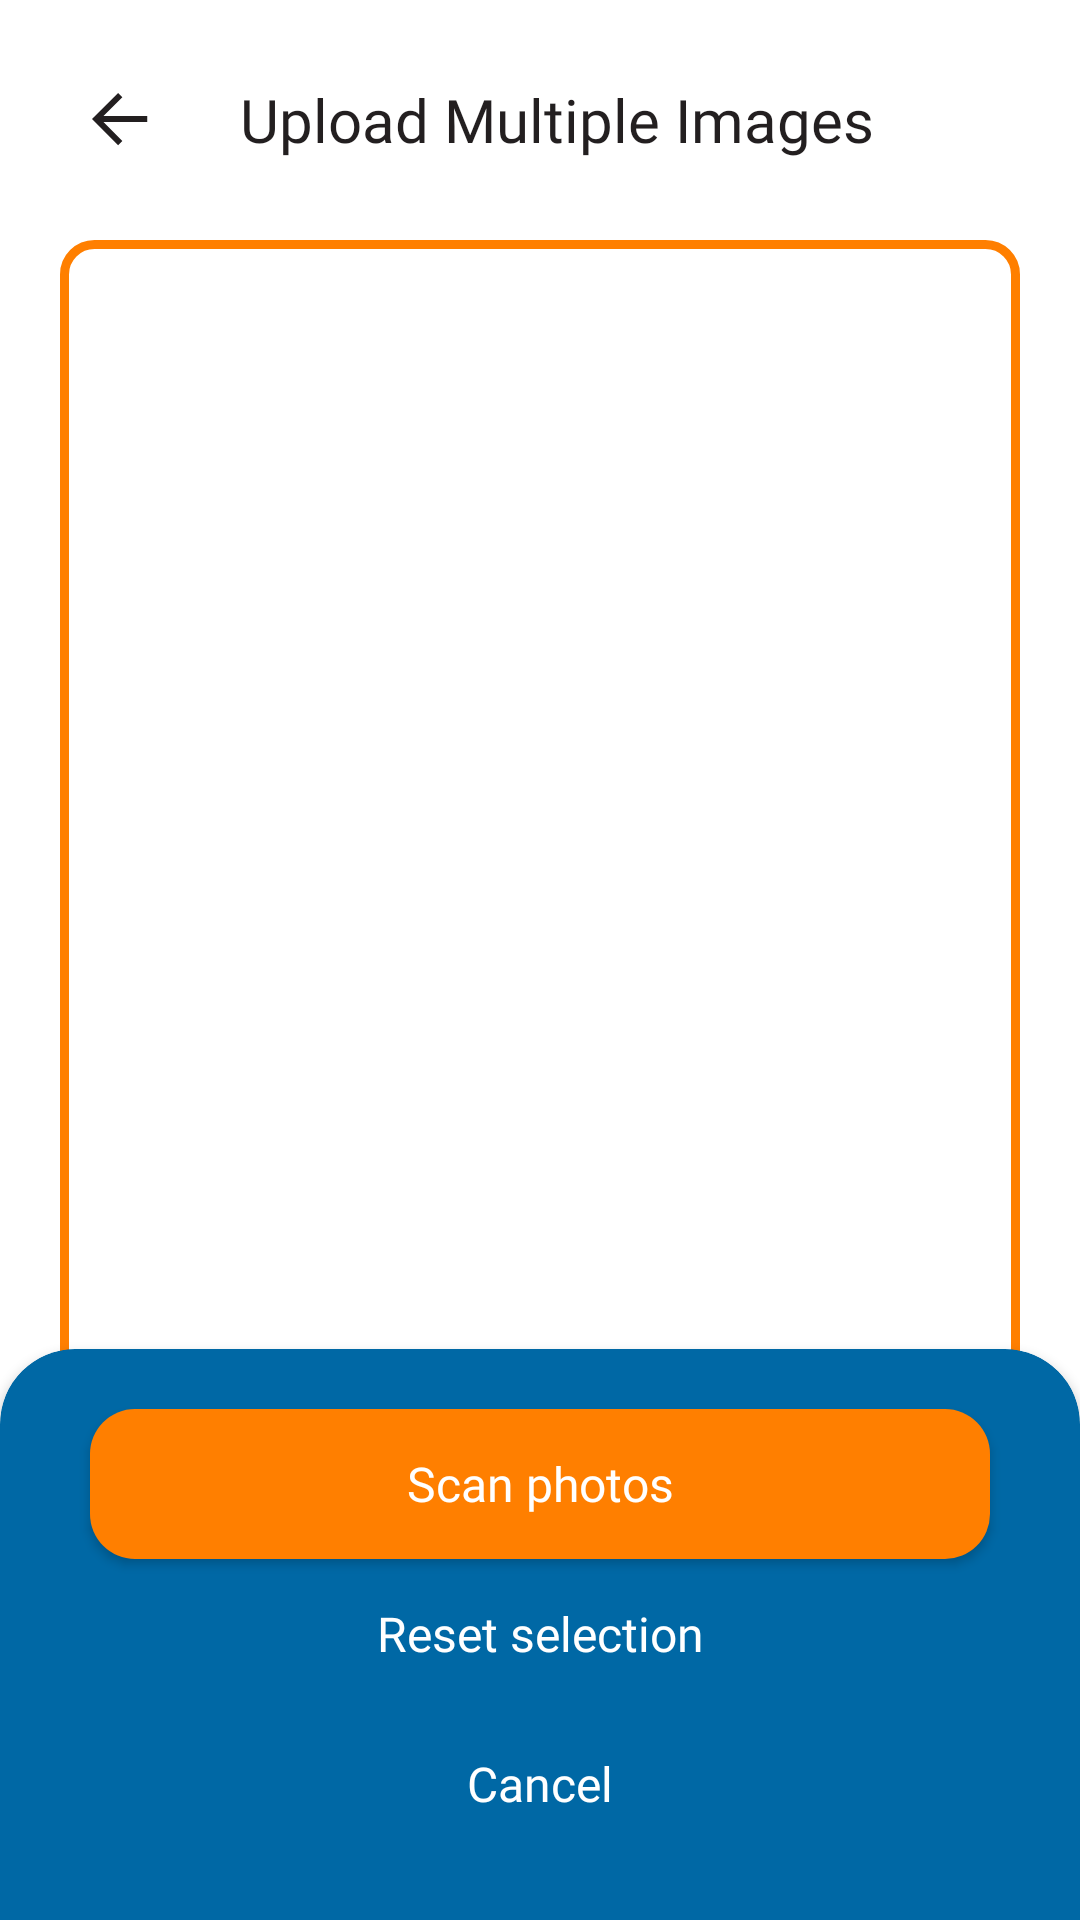

Named icons in this screenshot (1080px x 1920px) and their bounding boxes, (x1, y1, x2, y2):
arrow: (92, 93, 148, 145)
